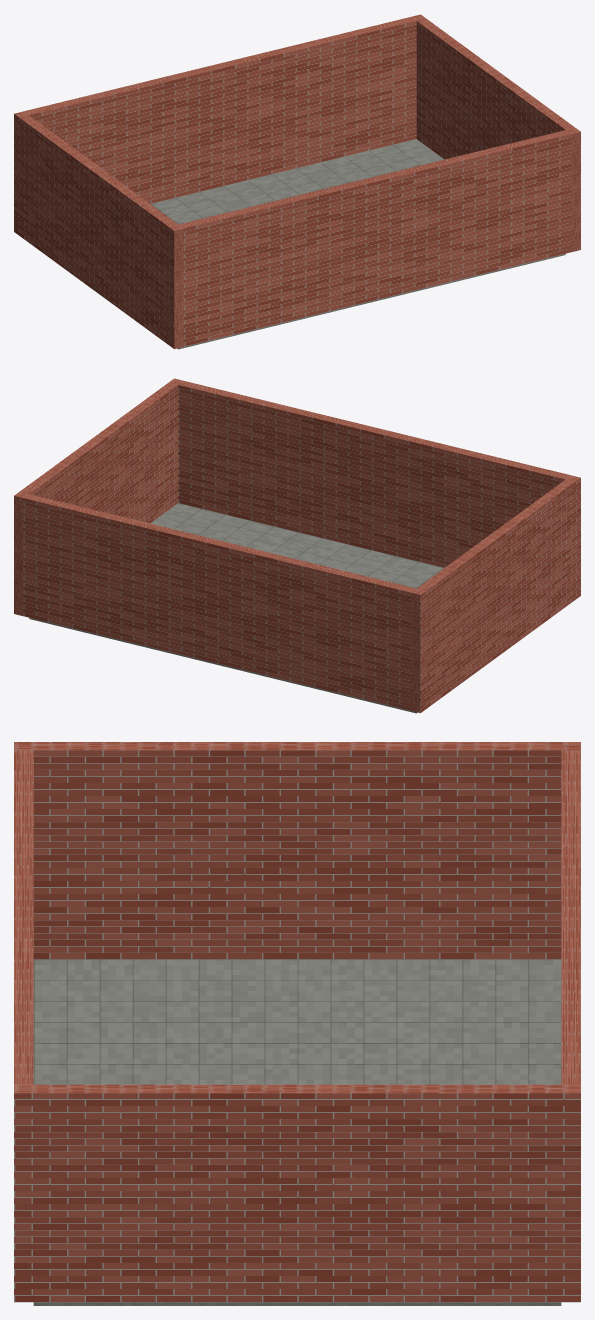
The model's file is hall.glb.
The picture shows the model from 3 angles, top to bottom: view 1: azimuth 30°, elevation 25°; view 2: azimuth 150°, elevation 25°; view 3: azimuth 270°, elevation 25°; orthographic projection. The views are drawn at different scales.
Visible parts, largest first — view 1: wall-s, wall-n, wall-w, wall-e, floor; view 2: wall-n, wall-s, wall-w, wall-e, floor; view 3: wall-e, wall-w, floor, wall-n, wall-s.
Boxes of the visible parts, x1,y1,x2,y2 form: wall-s: (178,130,571,346); wall-n: (24,17,416,203); wall-w: (14,111,183,349); wall-e: (411,14,580,252); floor: (151,139,565,349); wall-n: (23,494,416,710); wall-s: (178,381,570,567); wall-w: (411,475,580,713); wall-e: (14,378,183,616); floor: (29,503,443,713); wall-e: (14,1084,580,1302); wall-w: (14,742,580,959); floor: (33,959,561,1305); wall-n: (561,750,580,1084); wall-s: (14,750,33,1084).
Size of the model in its own units: 12.6 by 3.7 by 8.6.
Materials: 2 (2 with a texture image).
